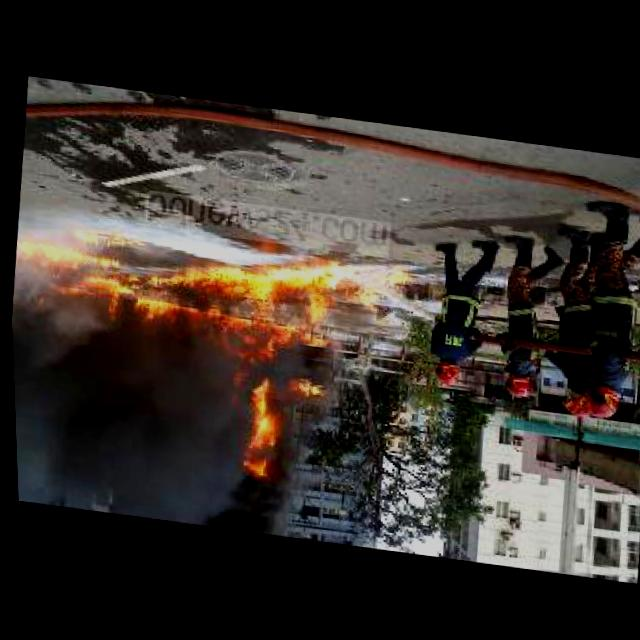Fire: (8, 215, 416, 359), (234, 378, 279, 482)
Smoke: (9, 309, 259, 529)
